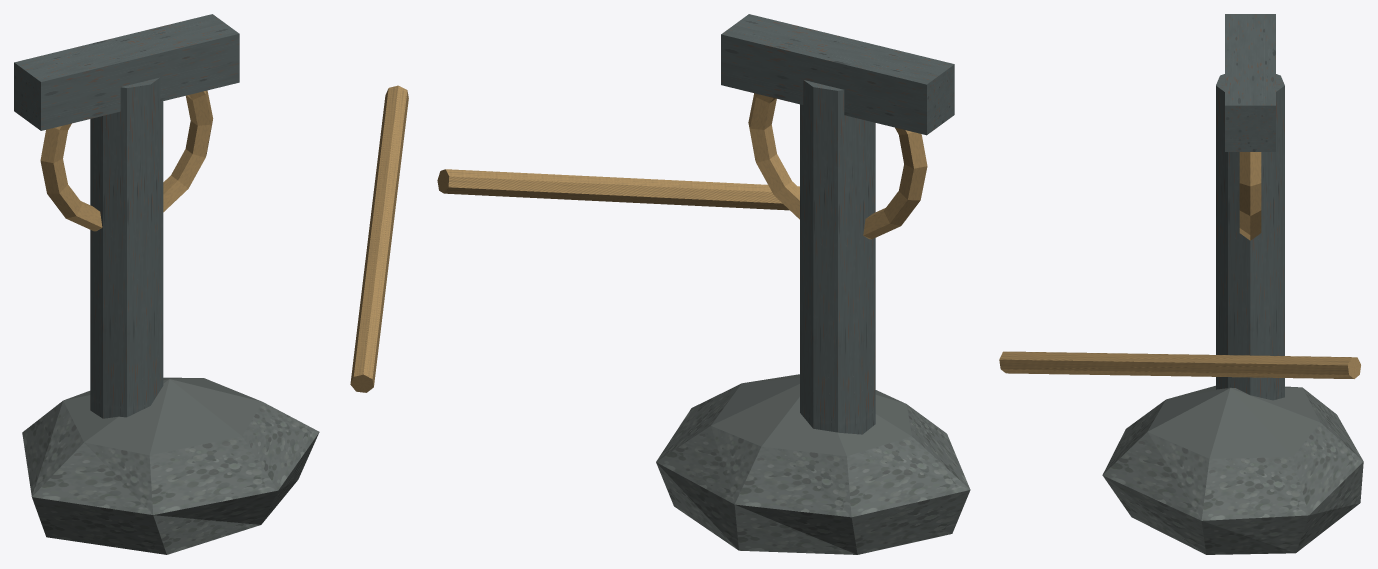
The model's file is pr-019_anchor_point_peg__active.obj.
3 views of the same model, side by side, from view 1: azimuth 30°, elevation 25°; view 2: azimuth 150°, elevation 25°; view 3: azimuth 270°, elevation 25° (orthographic). The views are drawn at different scales.
Visible parts, largest first — view 1: pr-019_anchor_point_peg__active; view 2: pr-019_anchor_point_peg__active; view 3: pr-019_anchor_point_peg__active.
Boxes of the visible parts, <box> form: pr-019_anchor_point_peg__active: <box>14,14,408,554</box>; pr-019_anchor_point_peg__active: <box>437,14,970,554</box>; pr-019_anchor_point_peg__active: <box>999,14,1363,554</box>.
Bounding box in the file's own units: 0.7634 × 0.76 × 0.5712.
3 materials, 3 textured.
